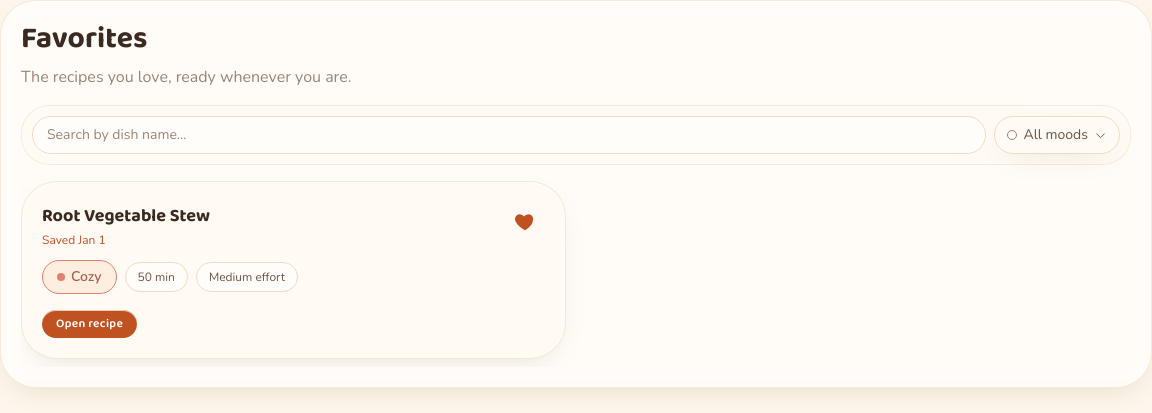
Test: FavoritesScreen › shows a no-search-results state (not the empty state) when a search matches nothing
Step 1. Type "pizza" into the search field named "search favorites" → (509, 135), box [32,116,986,154]
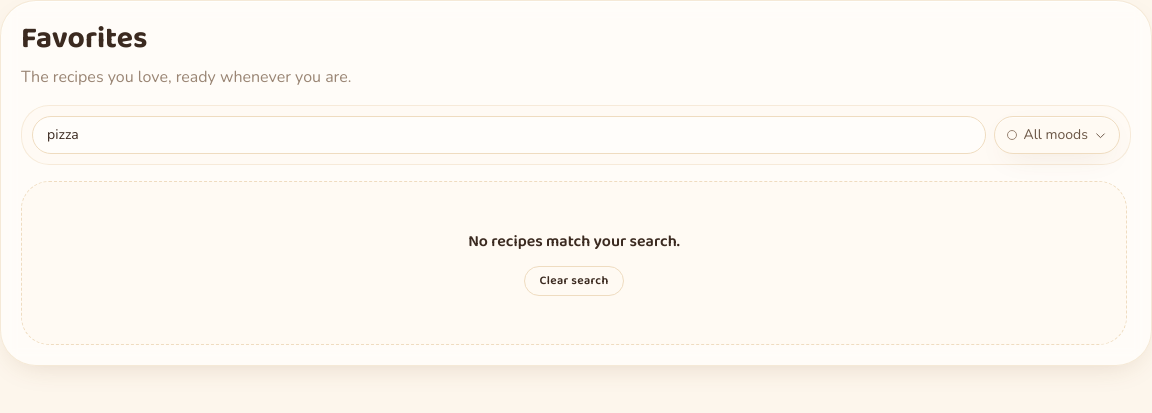
Check: the text "No recipes match your search." is shown, box [468,230,680,254]
